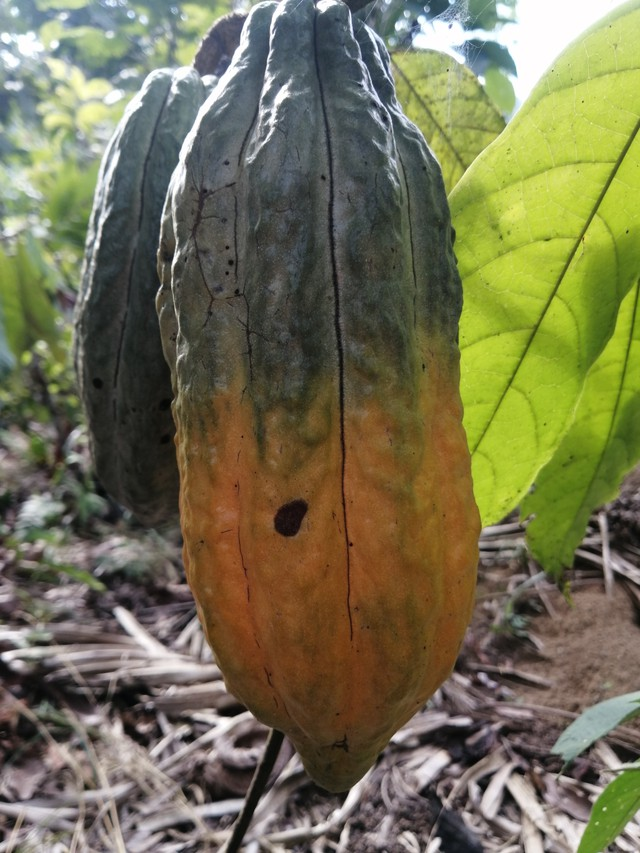moniliophthora perniciosa: (137, 0, 501, 812)
